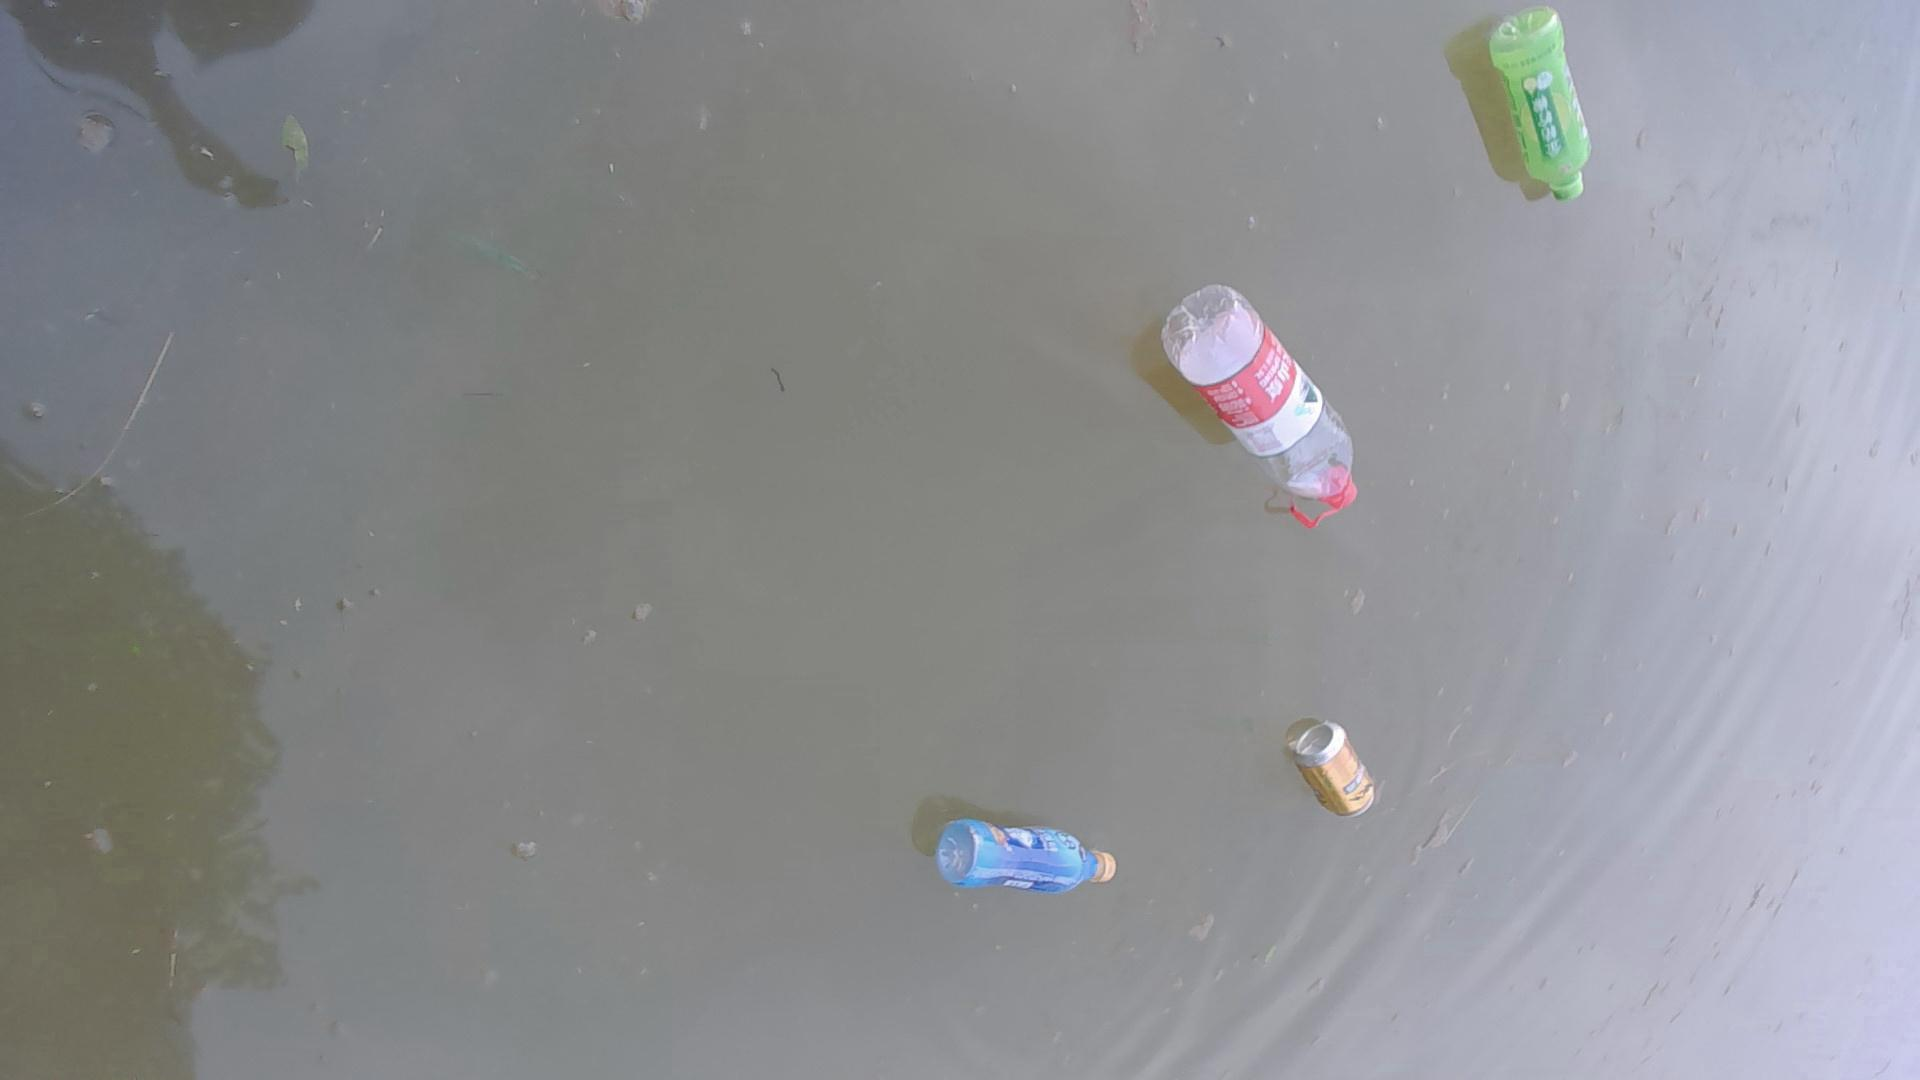Metal: (1283, 717, 1389, 822)
Plastic: (1151, 281, 1366, 531), (1464, 3, 1606, 222), (926, 810, 1125, 913)
